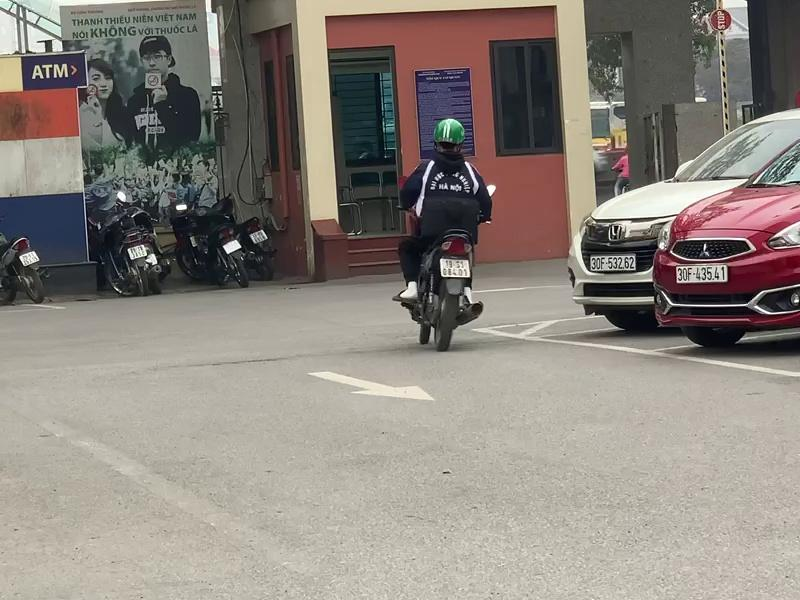helmet: (435, 117, 464, 150)
license_plate: (439, 258, 470, 278), (19, 247, 42, 269), (246, 228, 270, 249), (126, 241, 148, 263), (222, 236, 243, 256)
motorcyclist: (396, 113, 494, 351)
